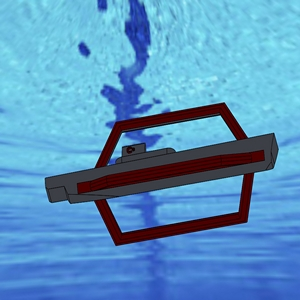submarine: (27, 82, 289, 257)
